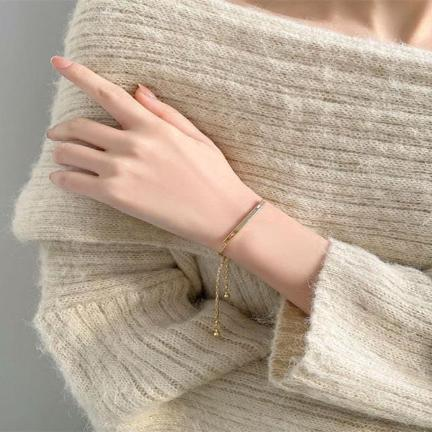Nail: (138, 83, 157, 99), (50, 56, 71, 69)
